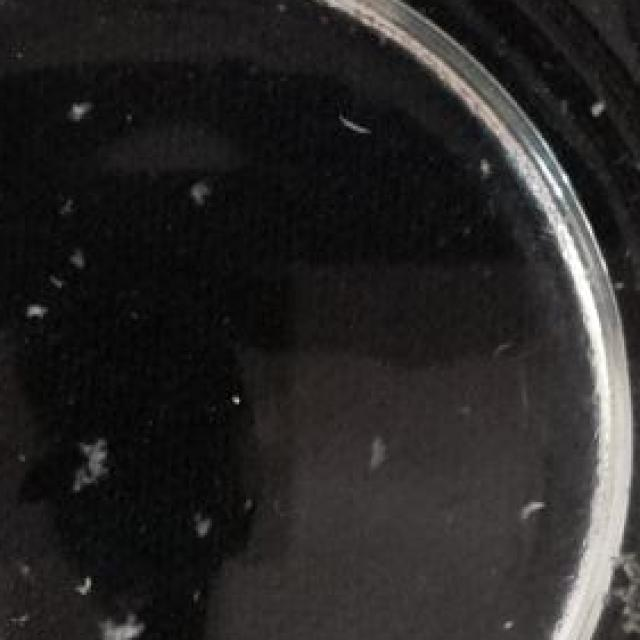Microplastic: (59, 412, 116, 516), (606, 535, 640, 640), (567, 71, 638, 119), (48, 72, 100, 136), (321, 95, 376, 152), (351, 412, 392, 481), (503, 478, 549, 538), (75, 609, 160, 640), (52, 564, 111, 607), (462, 142, 508, 192), (168, 514, 221, 554), (52, 238, 102, 276), (184, 169, 217, 214), (25, 281, 52, 335)
